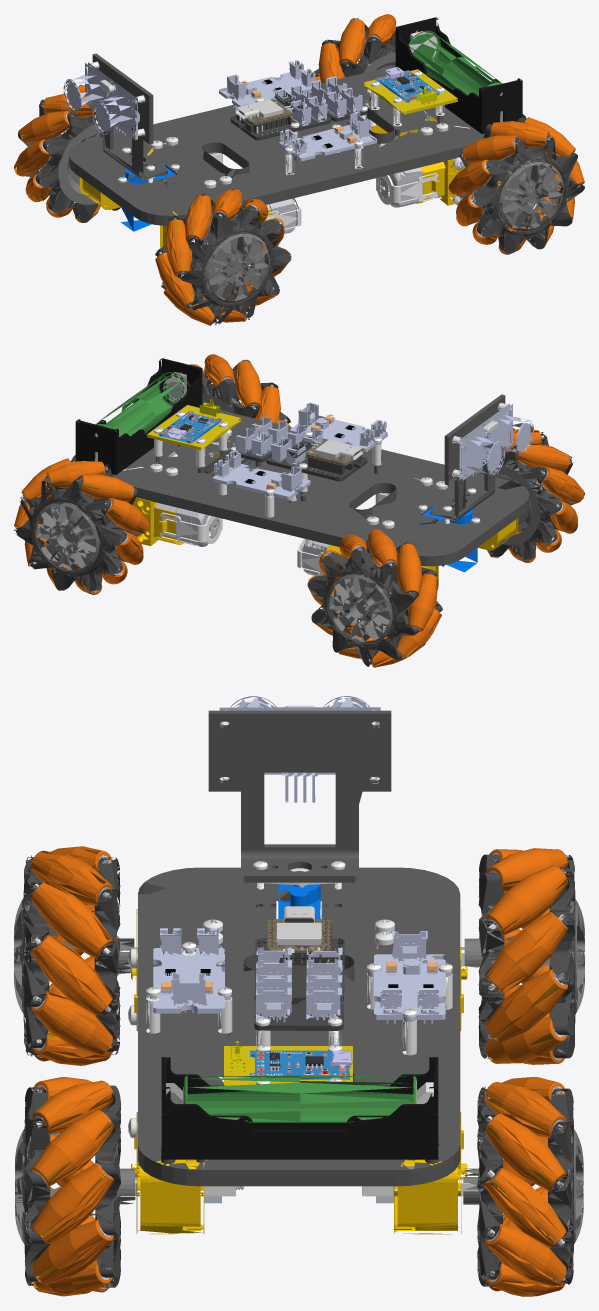
Rendered from robot-high.glb.
3 renders of one model, top to bottom at view 1: azimuth 30°, elevation 25°; view 2: azimuth 150°, elevation 25°; view 3: azimuth 270°, elevation 25°, orthographic. The views are drawn at different scales.
Parts seen in each view (by area): view 1: c8, c34, c10, c12, c35, c32, c31, c4, c19, c18, c7, c1 (+5 smaller); view 2: c8, c34, c10, c12, c35, c32, c4, c31, c19, c18, c7, c28 (+4 smaller); view 3: c8, c34, c10, c12, c32, c19, c31, c35, c4, c28, c1, c7 (+6 smaller).
Boxes of the visible parts, x1,y1,x2,y2 form: c8: (69,53,526,225); c34: (14,14,584,325); c10: (18,18,584,324); c12: (16,35,582,323); c35: (40,38,563,302); c32: (395,17,522,133); c31: (408,30,502,95); c4: (205,73,502,244); c19: (79,100,514,268); c18: (208,152,451,234); c7: (364,69,457,114); c1: (118,71,444,183); c8: (71,394,529,566); c34: (14,354,584,667); c10: (14,359,584,666); c12: (16,377,562,665); c35: (34,380,561,643); c32: (75,358,202,474); c4: (154,377,390,593); c31: (96,372,189,436); c19: (115,440,518,600); c18: (154,493,389,575); c7: (147,405,241,450); c28: (158,411,221,443); c8: (138,710,460,1186); c34: (31,846,567,1296); c10: (23,854,575,1287); c12: (33,696,565,1288); c32: (161,1057,438,1159); c19: (131,909,467,1234); c31: (184,1075,416,1122); c35: (14,898,584,1256); c4: (119,947,480,1196); c28: (250,1050,349,1079); c1: (146,861,452,1084); c7: (224,1046,352,1085).
Bounding box in the file's own units: 0.2163 × 0.099 × 0.1595.
